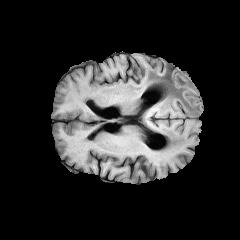glioma: (126, 64, 201, 149)
